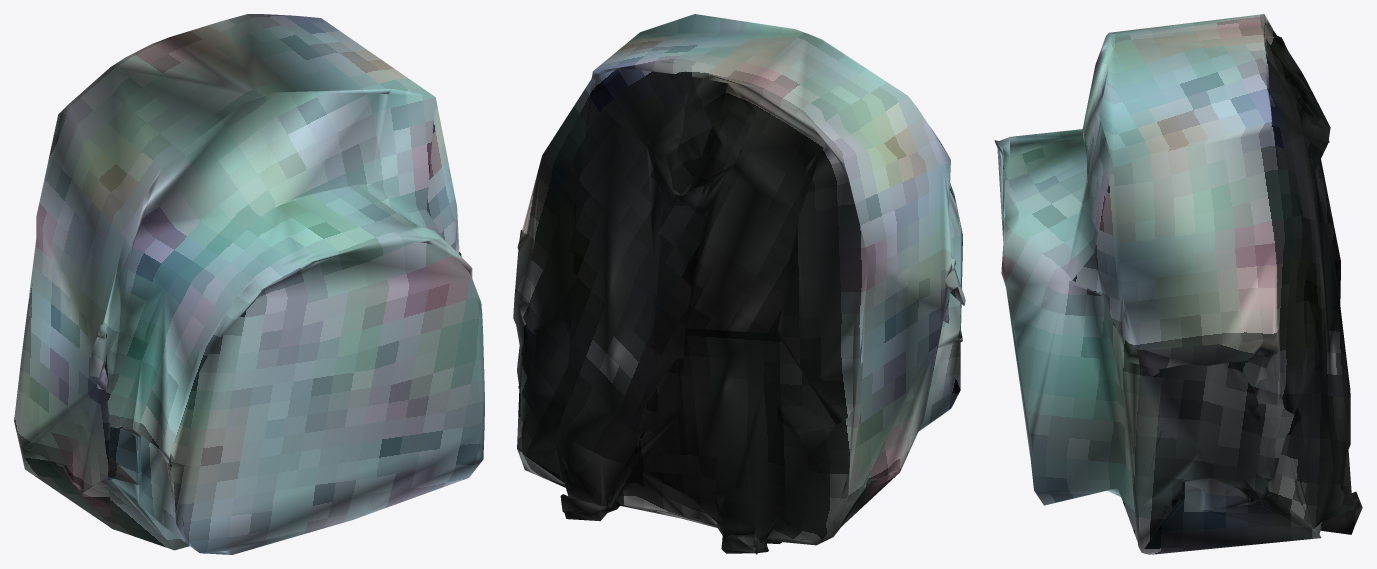
Rendered from Olive_Kids_Mermaids_Pack_n_Snack_Backpack-low.glb.
3 views of the same model, side by side, from view 1: azimuth 30°, elevation 25°; view 2: azimuth 150°, elevation 25°; view 3: azimuth 270°, elevation 25° (orthographic). The views are drawn at different scales.
Parts seen in each view (by area): view 1: Olive_Kids_Mermaids_Pack_n_Snack_Backpack; view 2: Olive_Kids_Mermaids_Pack_n_Snack_Backpack; view 3: Olive_Kids_Mermaids_Pack_n_Snack_Backpack.
Boxes of the visible parts, box(x1,y1,x2,y2) form: Olive_Kids_Mermaids_Pack_n_Snack_Backpack: box(14, 14, 484, 554); Olive_Kids_Mermaids_Pack_n_Snack_Backpack: box(513, 14, 965, 554); Olive_Kids_Mermaids_Pack_n_Snack_Backpack: box(994, 14, 1362, 554).
Size of the model in its own units: 0.2844 by 0.319 by 0.2372.
Materials: 1 (1 with a texture image).
